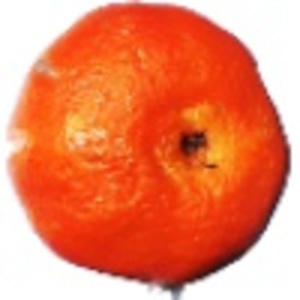tangerina: (4, 1, 293, 300)
